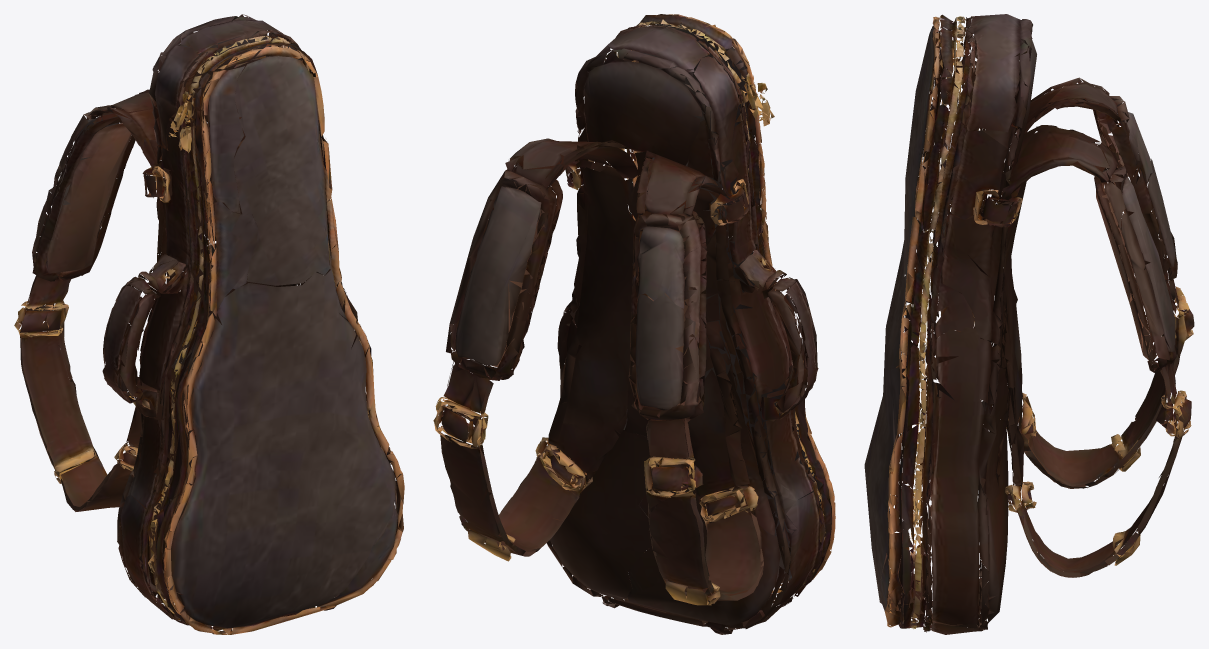
File: base_basic_pbr.glb
3 views of the same model, side by side, from view 1: azimuth 30°, elevation 25°; view 2: azimuth 150°, elevation 25°; view 3: azimuth 270°, elevation 25° (orthographic). The views are drawn at different scales.
Visible parts, largest first — view 1: model; view 2: model; view 3: model.
Part boxes in pixels (x1=…): model: x1=14, y1=14, x2=404, y2=634; model: x1=433, y1=14, x2=835, y2=634; model: x1=864, y1=14, x2=1194, y2=634.
Size of the model in its own units: 0.9212 by 1.9 by 0.9757.
Materials: 1 (1 with a texture image).
